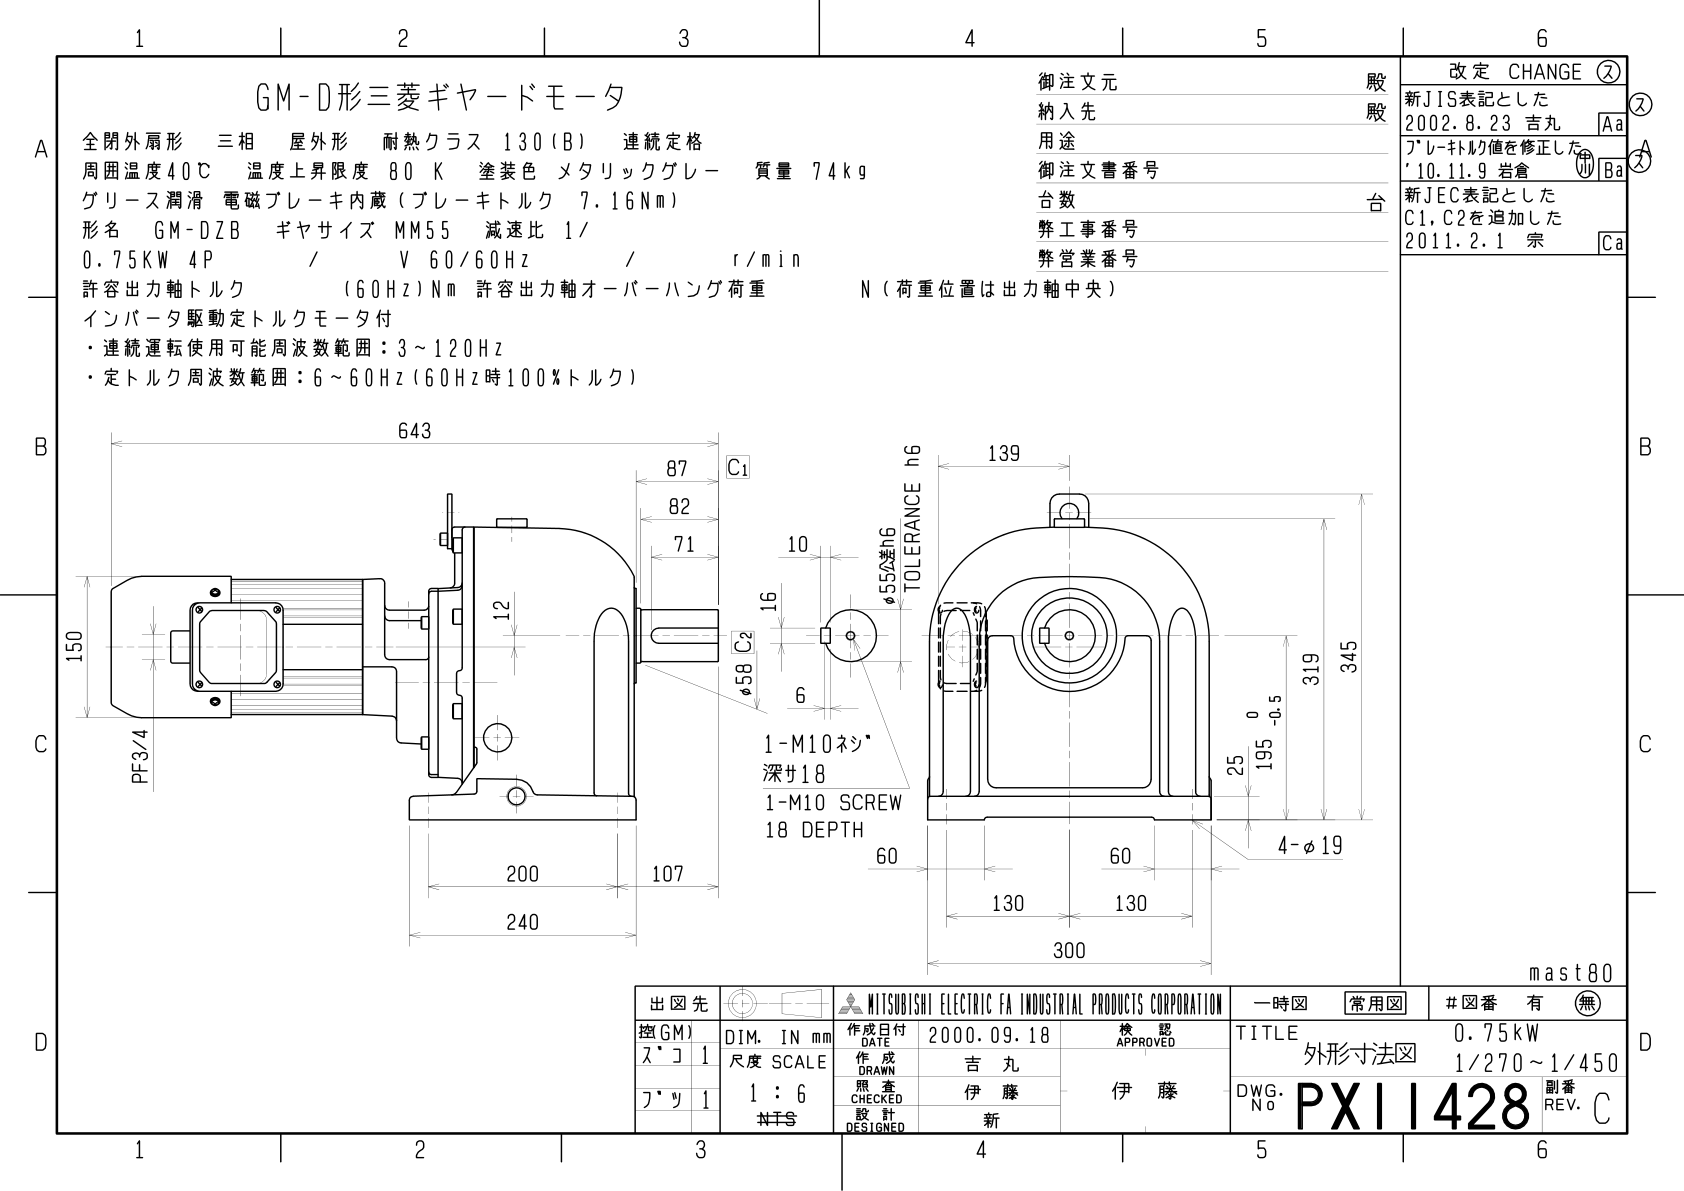GM_D_インバータ屋外_三相_脚: (58, 392, 1393, 980)
